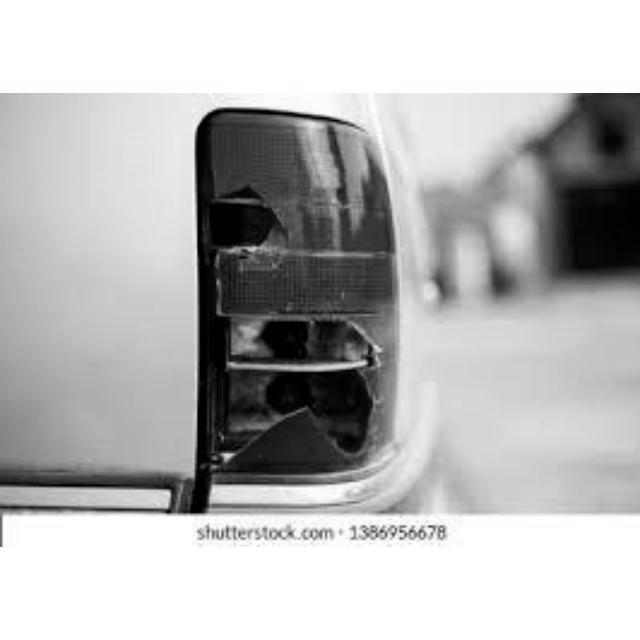Taillight-Damage: (190, 100, 418, 504)
